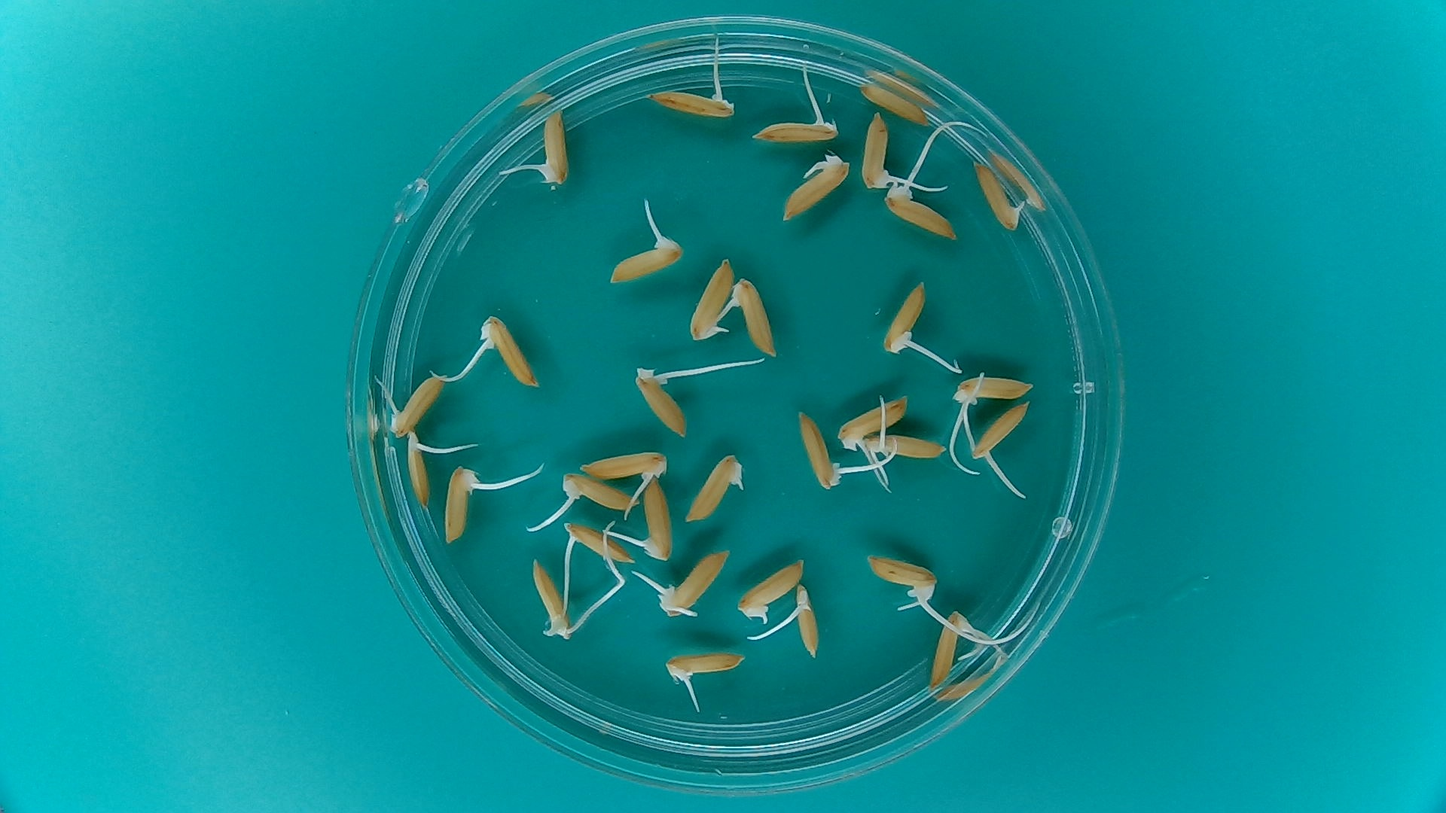no: (856, 79, 934, 127)
yes: (834, 392, 922, 470), (654, 546, 734, 620), (480, 309, 541, 392), (383, 368, 449, 440), (735, 555, 807, 621), (794, 406, 850, 490), (779, 157, 848, 224), (528, 557, 581, 644), (684, 451, 747, 524), (630, 361, 690, 437), (686, 253, 735, 346), (728, 274, 780, 360), (601, 233, 684, 285), (966, 400, 1033, 464), (881, 276, 932, 359), (972, 159, 1028, 233), (880, 190, 959, 242), (863, 550, 941, 602), (644, 79, 738, 120), (577, 444, 673, 483), (556, 470, 639, 515), (859, 104, 901, 192), (530, 103, 572, 187), (928, 612, 969, 693), (663, 647, 752, 684), (560, 520, 633, 564), (639, 479, 675, 563), (750, 112, 837, 146), (441, 462, 477, 544), (865, 429, 947, 464), (404, 433, 441, 510), (953, 372, 1034, 407), (789, 582, 821, 660)
